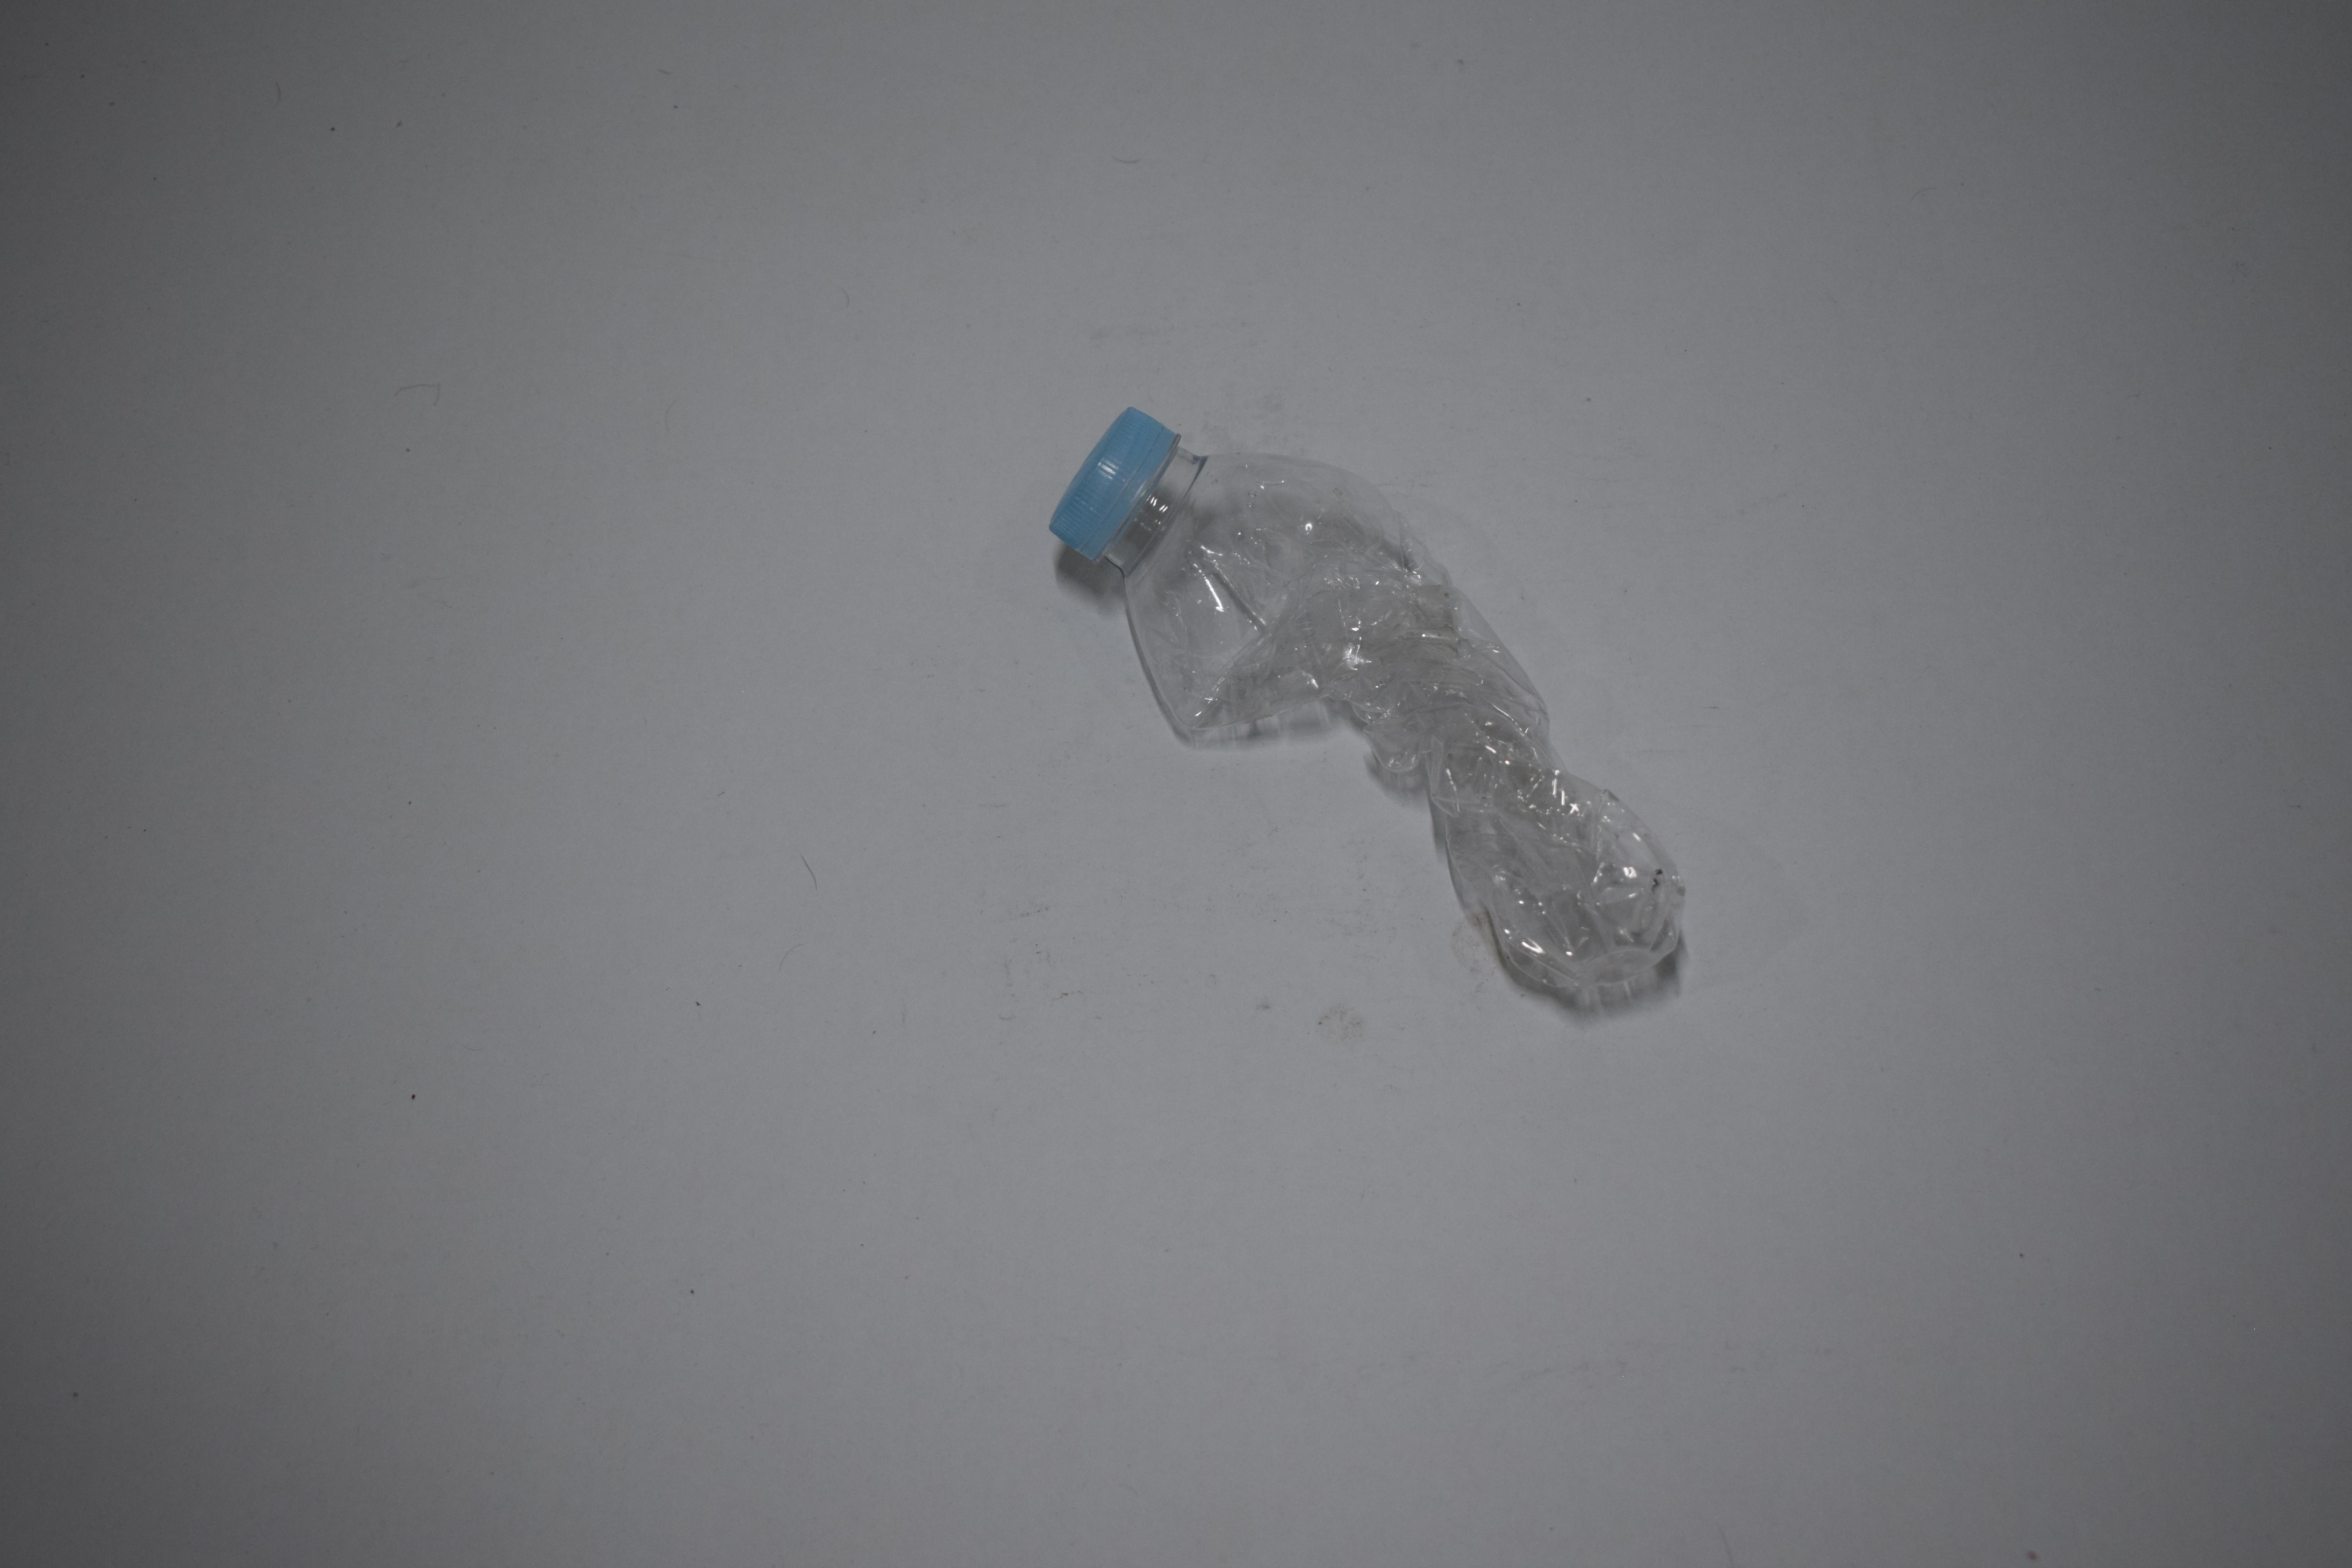bottle: (0, 318, 520, 949)
